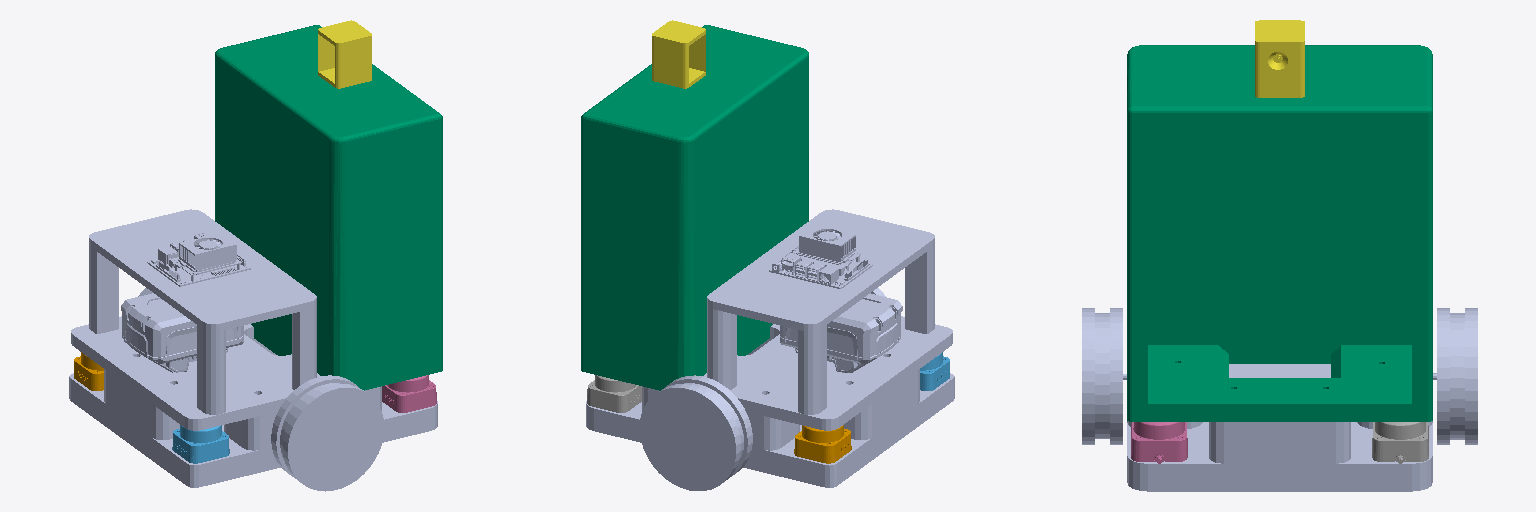
robot.urdf — URDF_RobotDiploma:
<?xml version="1.0" encoding="utf-8"?>
<robot name="URDF_RobotDiploma">

  <link name="custom_base_footprint"/>

  <joint name="base_footprint_joint" type="fixed">
    <parent link="custom_base_footprint"/>
    <child link="custom_base_link"/>
    <origin xyz="0 0 0.05" rpy="0 0 0"/> 
  </joint>

  <link name="custom_base_link">
    <visual>
      <origin xyz="0 0 0" rpy="0 0 0" />
      <geometry>
        <mesh filename="package://system_bringup/meshes/base_link.STL" />
      </geometry>
      <material name=""><color rgba="0.79 0.82 0.93 1" /></material>
    </visual>
    <collision>
      <origin xyz="0 0 0.1" rpy="0 0 0" />
      <geometry>
        <box size="0.4 0.44 0.2"/> 
      </geometry>
    </collision>
  </link>

  <link name="left_wheel">
    <visual>
      <geometry><mesh filename="package://system_bringup/meshes/left_wheel.STL" /></geometry>
      <material name=""><color rgba="0.79 0.82 0.93 1" /></material>
    </visual>
    <collision>
      <origin xyz="0 0 0" rpy="0 0 0" />
      <geometry><cylinder radius="0.067" length="0.04"/></geometry>
    </collision>
  </link>

  <joint name="leftwheel" type="continuous">
    <origin xyz="0.00033999 0.194 0.013" rpy="1.5708 0 0" />
    <parent link="custom_base_link" />
    <child link="left_wheel" />
    <axis xyz="0 0 -1" />
  </joint>

  <link name="right_wheel">
    <visual>
      <geometry><mesh filename="package://system_bringup/meshes/right_wheel.STL" /></geometry>
      <material name=""><color rgba="0.79 0.82 0.93 1" /></material>
    </visual>
    <collision>
      <origin xyz="0 0 0" rpy="0 0 0" />
      <geometry><cylinder radius="0.067" length="0.04"/></geometry>
    </collision>
  </link>

  <joint name="rightwheel" type="continuous">
    <origin xyz="0.00045567 -0.194 0.013" rpy="1.5708 0 0" />
    <parent link="custom_base_link" />
    <child link="right_wheel" />
    <axis xyz="0 0 1" />
  </joint>

  <link name="front_caster">
    <visual>
      <geometry><mesh filename="package://system_bringup/meshes/front_caster.STL" /></geometry>
    </visual>
  </link>
  <joint name="frontcasterjoint" type="fixed">
    <origin xyz="0.1283 0 -0.0243" rpy="0 0 0" />
    <parent link="custom_base_link" />
    <child link="front_caster" />
  </joint>

  <link name="back_caster">
    <visual>
      <geometry><mesh filename="package://system_bringup/meshes/back_caster.STL" /></geometry>
    </visual>
  </link>
  <joint name="backcasterjoint" type="fixed">
    <origin xyz="-0.1267 0 -0.0243" rpy="0 0 0" />
    <parent link="custom_base_link" />
    <child link="back_caster" />
  </joint>

  <link name="lidar_front_right">
    <visual><geometry><mesh filename="package://system_bringup/meshes/lidar_front_right.STL" /></geometry></visual>
  </link>
  <joint name="lidar1" type="fixed">
    <origin xyz="0.1438 -0.1185 0.0232" rpy="0 0 3.14159" /> 
    <parent link="custom_base_link" />
    <child link="lidar_front_right" />
  </joint>

  <link name="lidar_front_left">
    <visual><geometry><mesh filename="package://system_bringup/meshes/lidar_front_left.STL" /></geometry></visual>
  </link>
  <joint name="lidar2" type="fixed">
    <origin xyz="0.1439 0.1185 0.0232" rpy="0 0 3.14159" />
    <parent link="custom_base_link" />
    <child link="lidar_front_left" />
  </joint>

  <link name="lidar_back_left">
    <visual><geometry><mesh filename="package://system_bringup/meshes/lidar_back_left.STL" /></geometry></visual>
  </link>
  <joint name="lidar3" type="fixed">
    <origin xyz="-0.1431 0.1185 0.0232" rpy="0 0 0" />
    <parent link="custom_base_link" />
    <child link="lidar_back_left" />
  </joint>

  <link name="lidar_back_right">
    <visual><geometry><mesh filename="package://system_bringup/meshes/lidar_back_right.STL" /></geometry></visual>
  </link>
  <joint name="lidar4" type="fixed">
    <origin xyz="-0.1431 -0.1185 0.0232" rpy="0 0 0" />
    <parent link="custom_base_link" />
    <child link="lidar_back_right" />
  </joint>

  <link name="top_link">
    <visual><geometry><mesh filename="package://system_bringup/meshes/top_link.STL" /></geometry></visual>
  </link>
  <joint name="toplinkjoint" type="fixed">
    <origin xyz="0.1179 0 0.065" rpy="0 0 0" />
    <parent link="custom_base_link" />
    <child link="top_link" />
  </joint>

  <link name="camera_link">
    <visual><geometry><mesh filename="package://system_bringup/meshes/camera_link.STL" /></geometry></visual>
  </link>
  <joint name="camera_joint" type="fixed">
    <origin xyz="0.0324 -0.002 0.36" rpy="1.5708 0 1.5708" />
    <parent link="top_link" />
    <child link="camera_link" />
  </joint>

</robot>

--- Facts derived from the render (not from the file) ---
The picture shows the robot from 3 angles, left to right: view 1: azimuth 30°, elevation 25°; view 2: azimuth 150°, elevation 25°; view 3: azimuth 270°, elevation 25°; orthographic projection.
Model URDF_RobotDiploma with 12 links and 11 joints (2 continuous, 9 fixed), rooted at custom_base_footprint, posed all joints at 0.
Links seen in each view (by area): view 1: top_link, custom_base_link, right_wheel, camera_link, lidar_back_right, lidar_front_right, lidar_back_left; view 2: top_link, custom_base_link, left_wheel, camera_link, lidar_back_left, lidar_front_left, lidar_back_right; view 3: top_link, custom_base_link, left_wheel, right_wheel, camera_link, lidar_front_left, lidar_front_right.
Boxes of the visible links, x1,y1,x2,y2 form: top_link: [215, 25, 442, 390]; custom_base_link: [69, 209, 437, 487]; right_wheel: [271, 375, 384, 491]; camera_link: [318, 20, 371, 88]; lidar_back_right: [172, 425, 229, 463]; lidar_front_right: [382, 375, 436, 412]; lidar_back_left: [74, 352, 103, 390]; top_link: [581, 25, 808, 390]; custom_base_link: [586, 209, 954, 487]; left_wheel: [640, 375, 752, 490]; camera_link: [652, 20, 705, 88]; lidar_back_left: [794, 425, 851, 463]; lidar_front_left: [587, 375, 641, 412]; lidar_back_right: [920, 352, 949, 390]; top_link: [1127, 45, 1432, 421]; custom_base_link: [1123, 364, 1436, 491]; left_wheel: [1437, 308, 1477, 444]; right_wheel: [1082, 308, 1122, 444]; camera_link: [1255, 20, 1304, 97]; lidar_front_left: [1372, 422, 1428, 463]; lidar_front_right: [1131, 422, 1187, 463].
Bounding box of the posed robot: 0.3555 × 0.388 × 0.499 m (x, y, z).
Meshes: 11 distinct files referenced, 11 mesh visuals loaded (11 binary STL).
